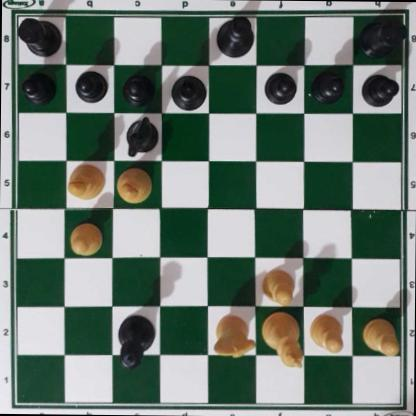black-bishop: (169, 75, 208, 113)
black-king: (214, 15, 255, 58)
black-knight: (123, 115, 159, 157)
black-pawn: (361, 71, 397, 107), (311, 69, 345, 103), (21, 70, 55, 102), (74, 69, 106, 103), (264, 70, 296, 104), (122, 71, 154, 104)
black-queen: (114, 312, 156, 369)
black-rook: (15, 13, 63, 57), (360, 16, 408, 57)
white-bishop: (67, 164, 106, 200), (116, 167, 152, 205)
white-king: (261, 312, 302, 367)
white-knight: (213, 314, 257, 360)
white-pawn: (309, 313, 345, 353), (362, 317, 399, 354), (260, 266, 295, 304), (69, 222, 102, 255)
